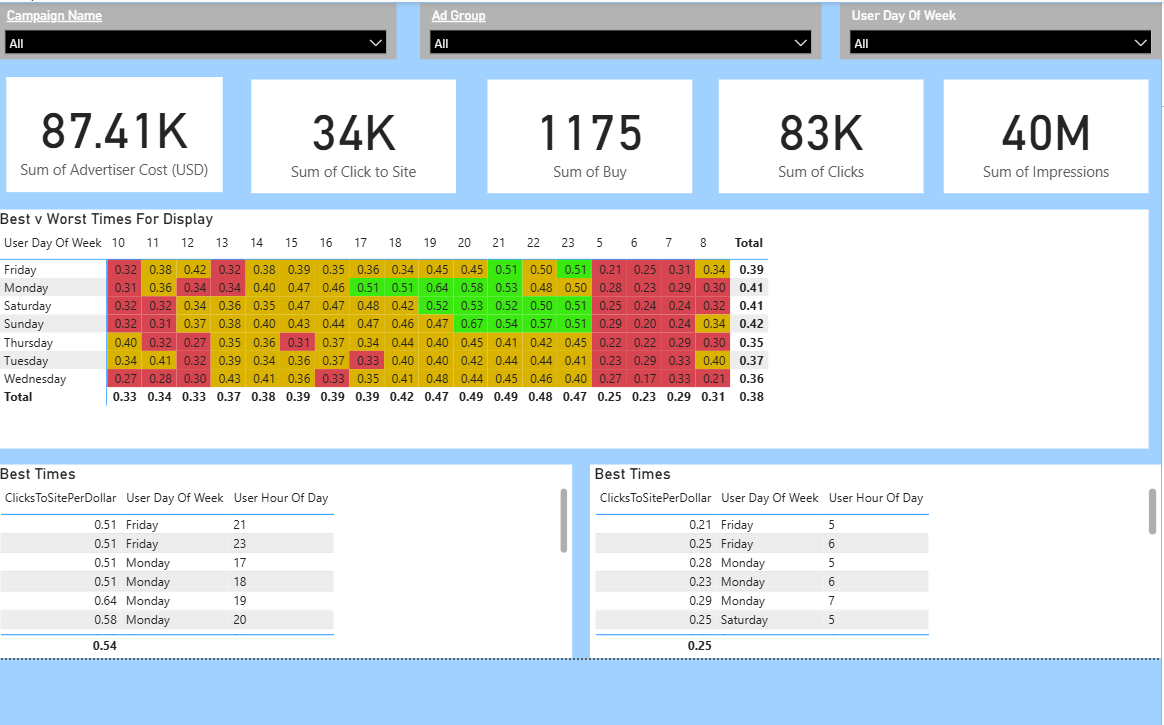

Layout of this report page (visuals, bound fields, positions):
{"tool":"powerbi","page":{"name":"Page 1","canvas":[1280,720],"ordinal":0},"visuals":[{"type":"slicer","fields":{"Values":["User Hour_data.Campaign"]},"box":[0,1.4,440.5,61.7],"z":0},{"type":"card","fields":{"Values":["Sum(User Hour_data.Advertiser Cost (USD))"]},"box":[12.3,82.3,237.4,126.2],"z":1000},{"type":"card","fields":{"Values":["Sum(User Hour_data.Clicks)"]},"box":[794.5,85.1,225,124.9],"z":2000},{"type":"card","fields":{"Values":["Sum(User Hour_data.Click to Site)"]},"box":[540.7,85.1,225,124.9],"z":3000},{"type":"card","fields":{"Values":["Sum(User Hour_data.Click to Buy)"]},"box":[281.3,85.1,225,124.9],"z":4000},{"type":"card","fields":{"Values":["Sum(User Hour_data.Impressions)"]},"box":[1041.5,85.1,225,124.9],"z":5000},{"type":"slicer","fields":{"Values":["User Hour_data.User Day Of Week"]},"box":[927.6,1.4,352.7,61.7],"z":6000},{"type":"slicer","fields":{"Values":["User Hour_data.Ad Group"]},"box":[466.6,1.4,440.5,61.7],"z":7000},{"type":"pivotTable","title":"Best v Worst Times For Display","fields":{"Rows":["User Hour_data.User Day Of Week"],"Columns":["User Hour_data.User Hour Of Day"],"Values":["User Hour_data.ClicksToSitePerDollar"]},"box":[0,227.8,1266.6,262.1],"z":8000},{"type":"tableEx","title":"Best Times","fields":{"Values":["User Hour_data.ClicksToSitePerDollar","User Hour_data.User Day Of Week","User Hour_data.User Hour Of Day"]},"box":[0,507.7,634,212.7],"z":9000},{"type":"tableEx","title":"Best Times","fields":{"Values":["User Hour_data.ClicksToSitePerDollar","User Hour_data.User Day Of Week","User Hour_data.User Hour Of Day"]},"box":[653.2,507.7,627.1,212.7],"z":10000}]}

Visuals, with their boxes on the page's 1280x720 design canvas (x1, y1, x2, y2). These are canvas units, not pixel positions in the 1164x725 screenshot, which may show the page scaled, cropped or inside an application window:
slicer - User Hour_data.Campaign: bbox=(0, 1, 440, 63)
card - Sum(User Hour_data.Advertiser Cost (USD)): bbox=(12, 82, 250, 208)
card - Sum(User Hour_data.Clicks): bbox=(794, 85, 1020, 210)
card - Sum(User Hour_data.Click to Site): bbox=(541, 85, 766, 210)
card - Sum(User Hour_data.Click to Buy): bbox=(281, 85, 506, 210)
card - Sum(User Hour_data.Impressions): bbox=(1042, 85, 1266, 210)
slicer - User Hour_data.User Day Of Week: bbox=(928, 1, 1280, 63)
slicer - User Hour_data.Ad Group: bbox=(467, 1, 907, 63)
"Best v Worst Times For Display" pivotTable: bbox=(0, 228, 1267, 490)
"Best Times" tableEx: bbox=(0, 508, 634, 720)
"Best Times" tableEx: bbox=(653, 508, 1280, 720)
